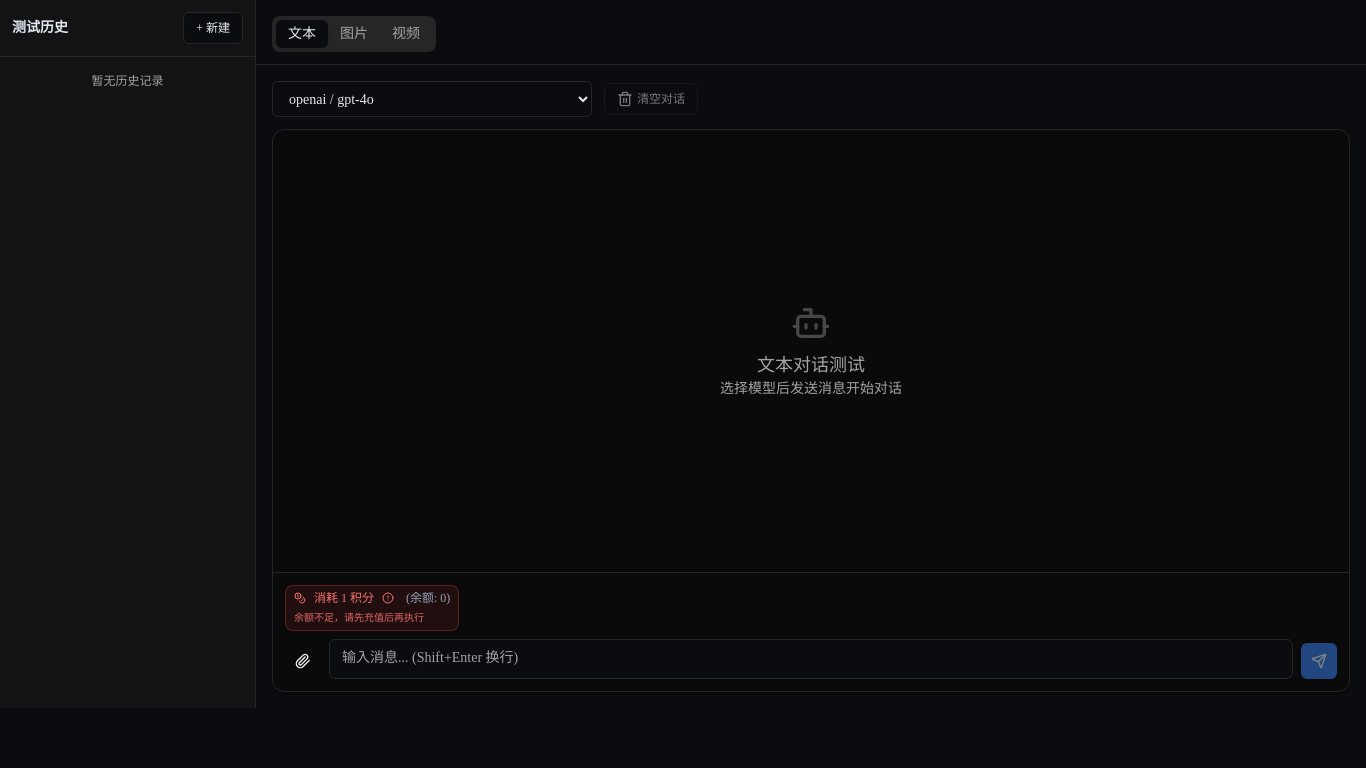
Test case: TextPanel › Clear conversation (Req 15.3) › clears all messages when clear button is clicked
Type a message and send
In the text box with test id "text-input": coordinates (811, 659) [329,639,1293,679], type "Hello AI"
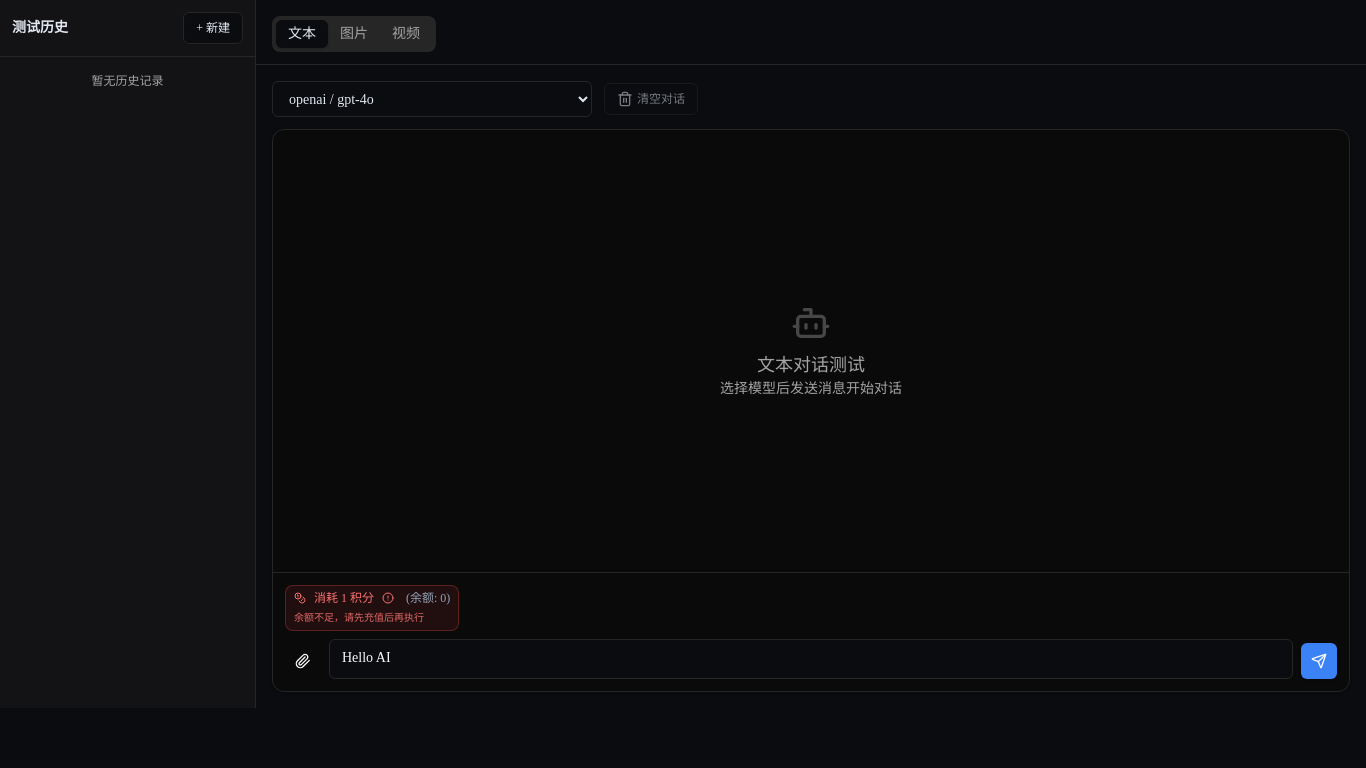
Click the button with test id "text-send-btn": coordinates (1319, 661) [1301,643,1337,679]
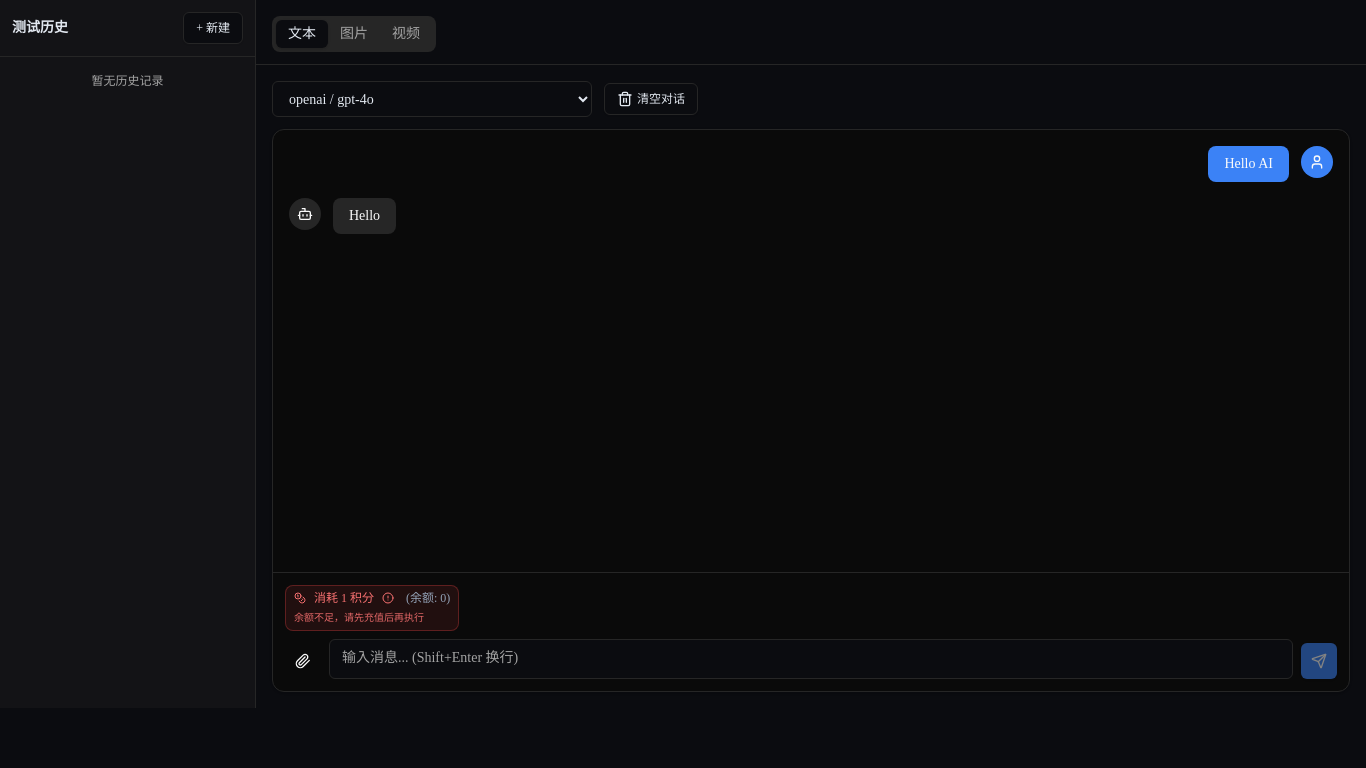
Expected: the text "Hello AI" is shown, [1224,154,1273,174]
Expected: the text "Hello" is shown, [349,206,380,226]
Expected: the button with test id "text-clear-btn" is enabled
Click the button with test id "text-clear-btn": coordinates (651, 99) [604,83,698,115]
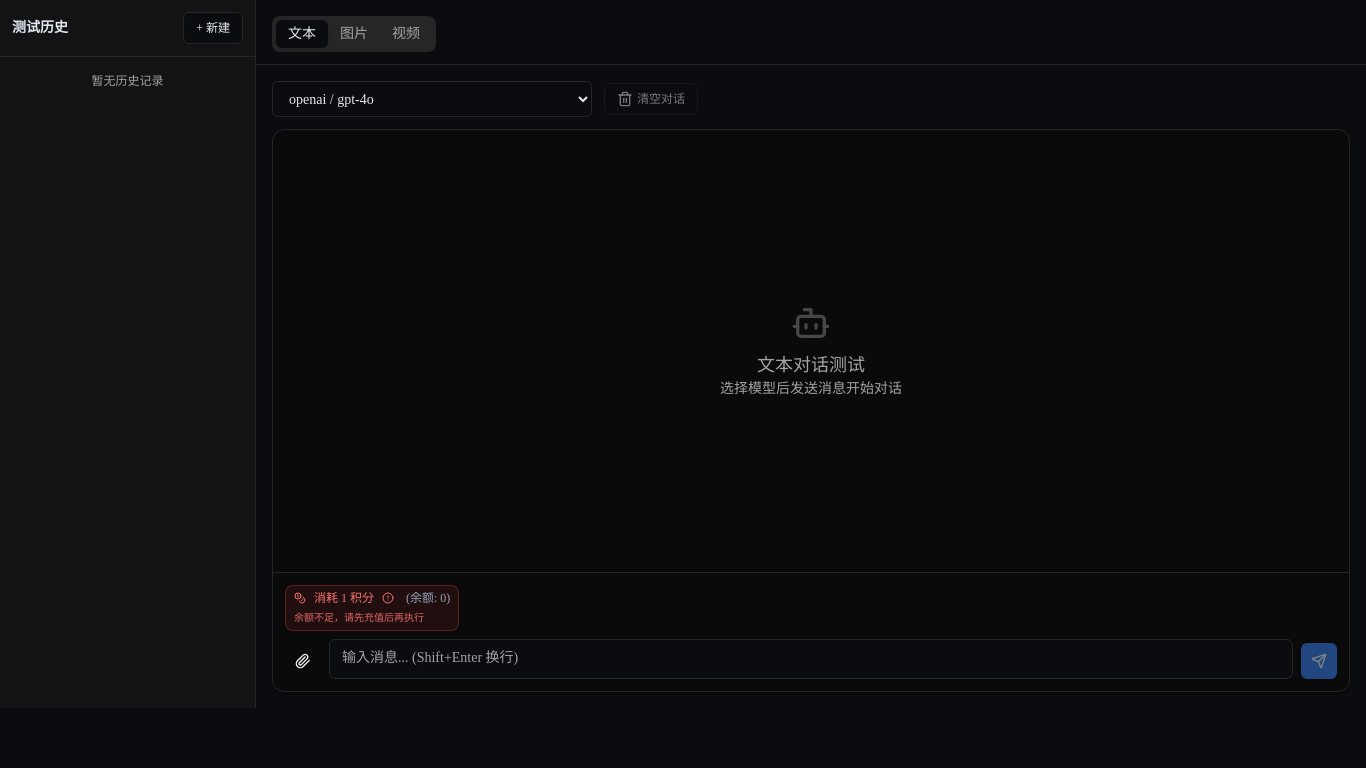
Expected: the text "Hello AI" is gone
Expected: the text "文本对话测试" is shown, [757,351,865,379]
